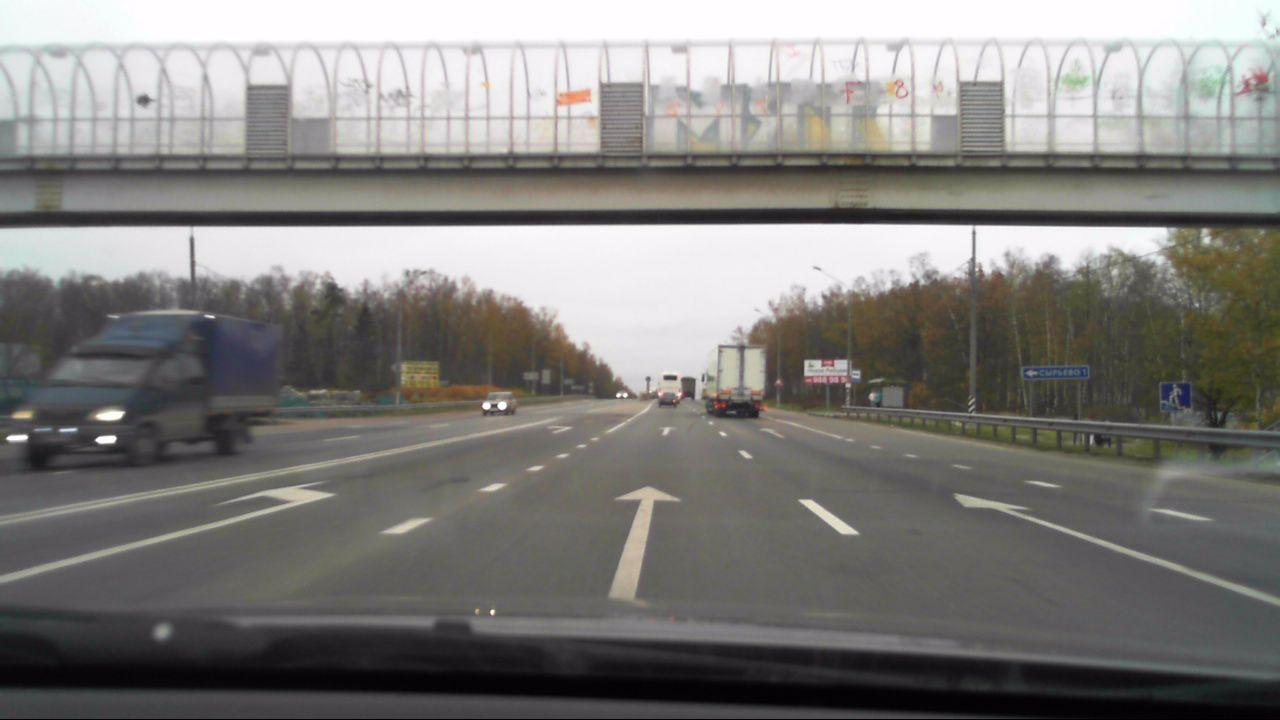6_7: (1159, 382, 1191, 412)
